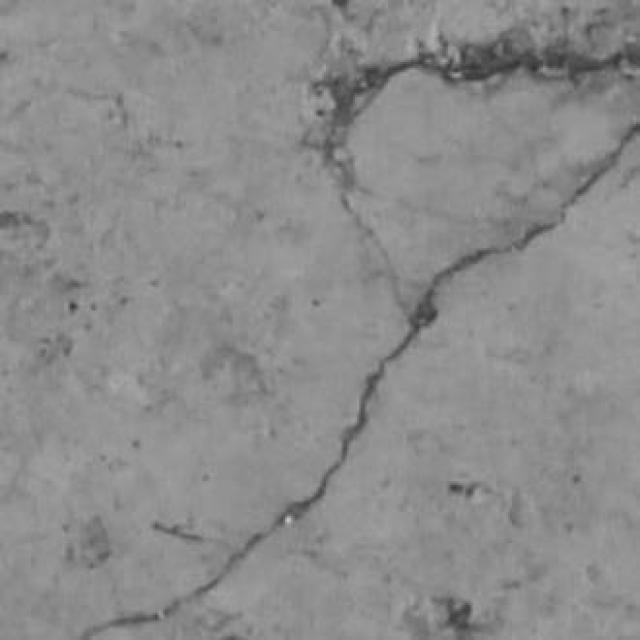crack: (80, 123, 639, 639), (303, 32, 639, 319), (303, 32, 639, 184), (340, 189, 409, 319)
